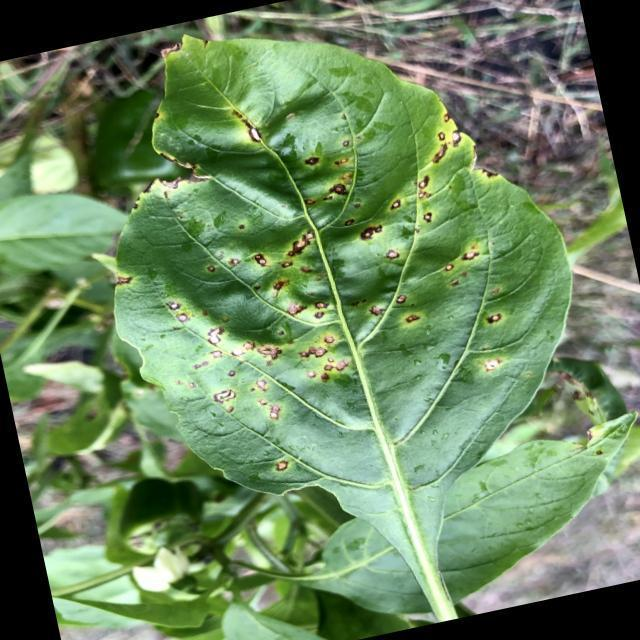Septoria: (138, 112, 524, 446)
